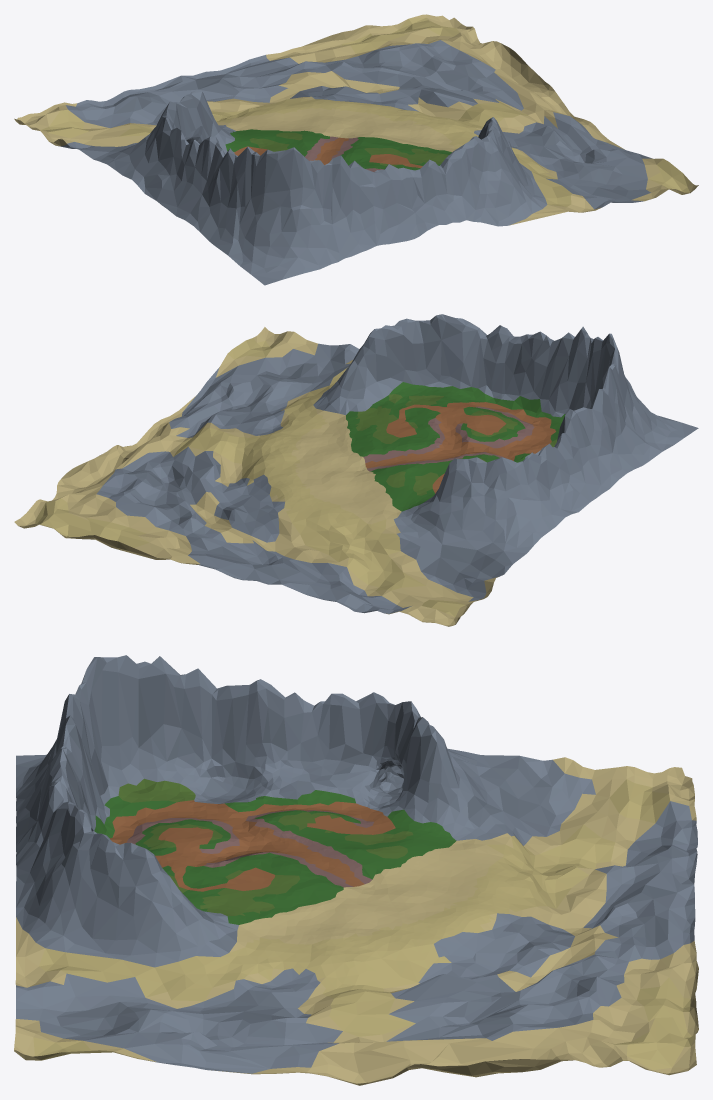
Rendered from Island1.fbx.
3 renders of one model, top to bottom at view 1: azimuth 30°, elevation 25°; view 2: azimuth 150°, elevation 25°; view 3: azimuth 270°, elevation 25°, orthographic. The views are drawn at different scales.
Visible parts, largest first — view 1: Island; view 2: Island; view 3: Island.
Part boxes in pixels (bbox=[...]): Island: bbox=[14, 14, 698, 285]; Island: bbox=[14, 314, 698, 626]; Island: bbox=[14, 655, 698, 1085].
Bounding box in the file's own units: 102396 × 29612 × 101023.
